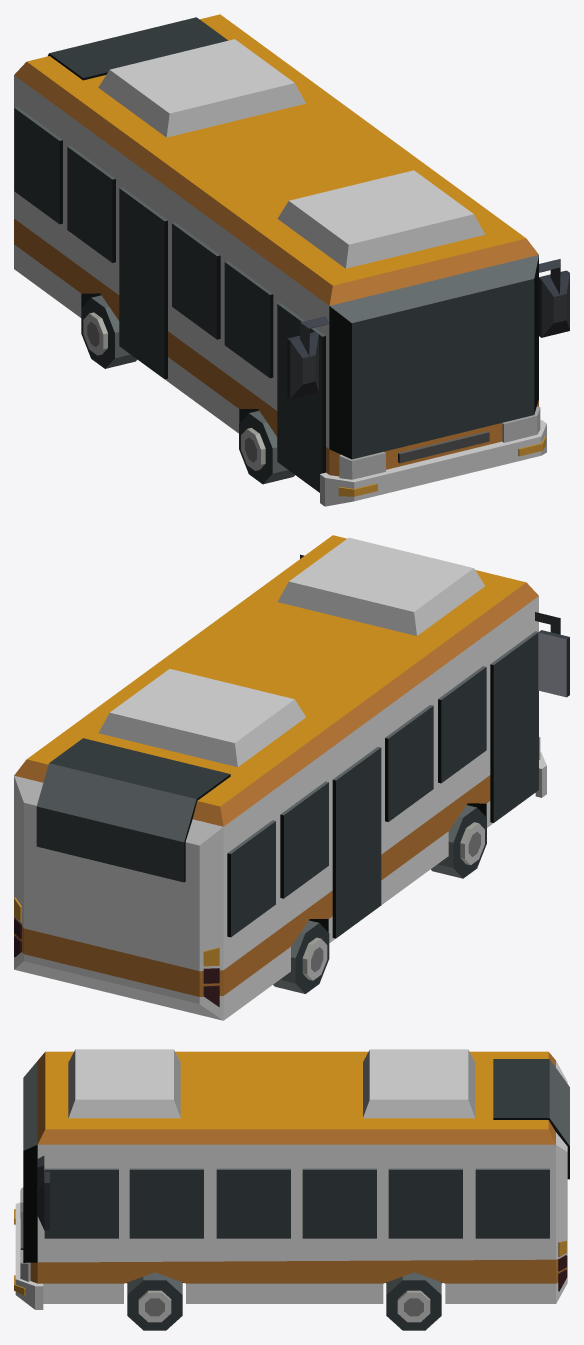
Rendered from TB_CITY_Car_Bus_D.FBX.
The picture shows the model from 3 angles, top to bottom: view 1: azimuth 30°, elevation 25°; view 2: azimuth 150°, elevation 25°; view 3: azimuth 270°, elevation 25°; orthographic projection. The views are drawn at different scales.
Visible parts, largest first — view 1: TB_CITY_Car_Bus_D, TB_Car_Bus_Wheel013, TB_Car_Bus_Wheel015; view 2: TB_CITY_Car_Bus_D, TB_Car_Bus_Wheel013, TB_Car_Bus_Wheel015; view 3: TB_CITY_Car_Bus_D, TB_Car_Bus_Wheel014, TB_Car_Bus_Wheel016.
Boxes of the visible parts, bbox=[...] form: TB_CITY_Car_Bus_D: bbox=[14, 14, 569, 506]; TB_Car_Bus_Wheel013: bbox=[81, 295, 137, 368]; TB_Car_Bus_Wheel015: bbox=[239, 411, 294, 484]; TB_CITY_Car_Bus_D: bbox=[14, 535, 569, 1020]; TB_Car_Bus_Wheel013: bbox=[273, 920, 329, 993]; TB_Car_Bus_Wheel015: bbox=[431, 805, 486, 878]; TB_CITY_Car_Bus_D: bbox=[14, 1049, 569, 1309]; TB_Car_Bus_Wheel014: bbox=[386, 1272, 441, 1330]; TB_Car_Bus_Wheel016: bbox=[127, 1272, 182, 1330].
Bounding box in the file's own units: 5.09 × 4.51 × 10.66.
